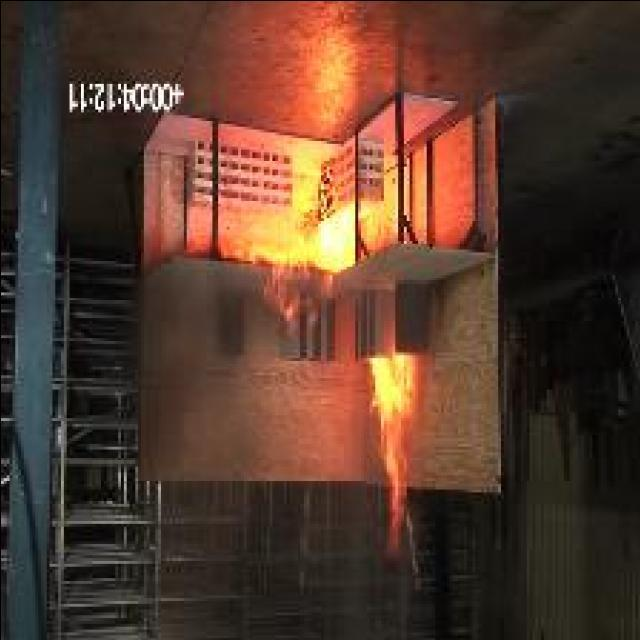Fire: (237, 173, 352, 327), (368, 356, 412, 553)
